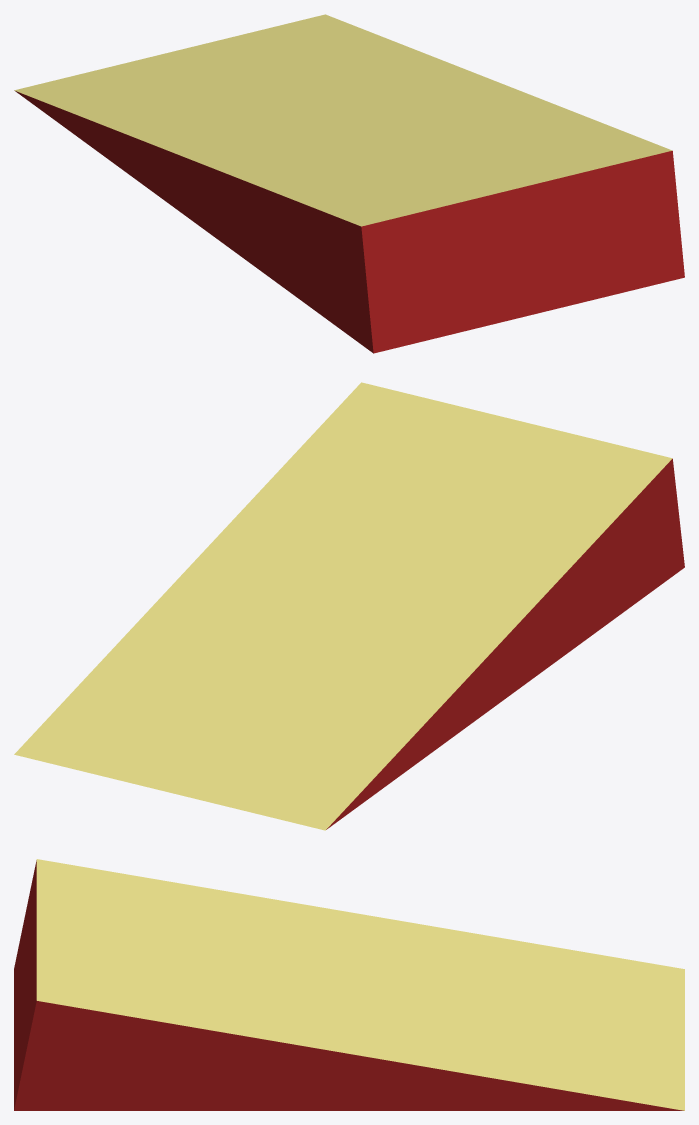
The model's file is Comte.fbx.
3 renders of one model, top to bottom at view 1: azimuth 30°, elevation 25°; view 2: azimuth 150°, elevation 25°; view 3: azimuth 270°, elevation 25°, orthographic. The views are drawn at different scales.
Visible parts, largest first — view 1: skpEAD7_1; view 2: skpEAD7_1; view 3: skpEAD7_1.
Part boxes in pixels (x1,y1,x2,y2): skpEAD7_1: (14,14,684,353); skpEAD7_1: (14,382,684,830); skpEAD7_1: (14,859,684,1110).
Size of the model in its own units: 0.08 by 0.029 by 0.16.
